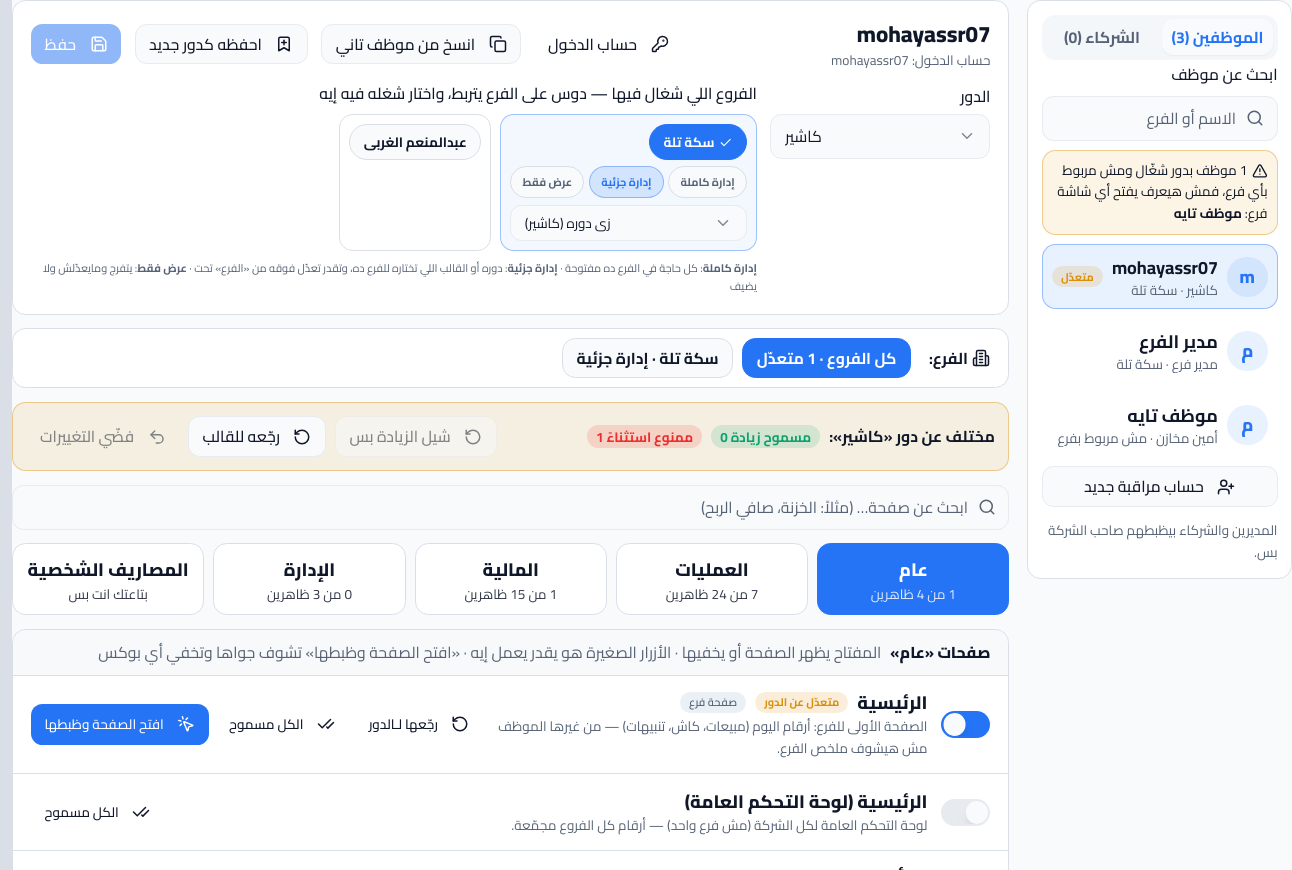
Test: Employees permissions screen › toggling a page then saving sends ALL differences in one call
The width and height of the screenshot is (1292, 870).
Later steps or results of the test are not shown.
Click the switch named "إخفاء الرئيسية" at (966, 724), box [941,711,990,738]
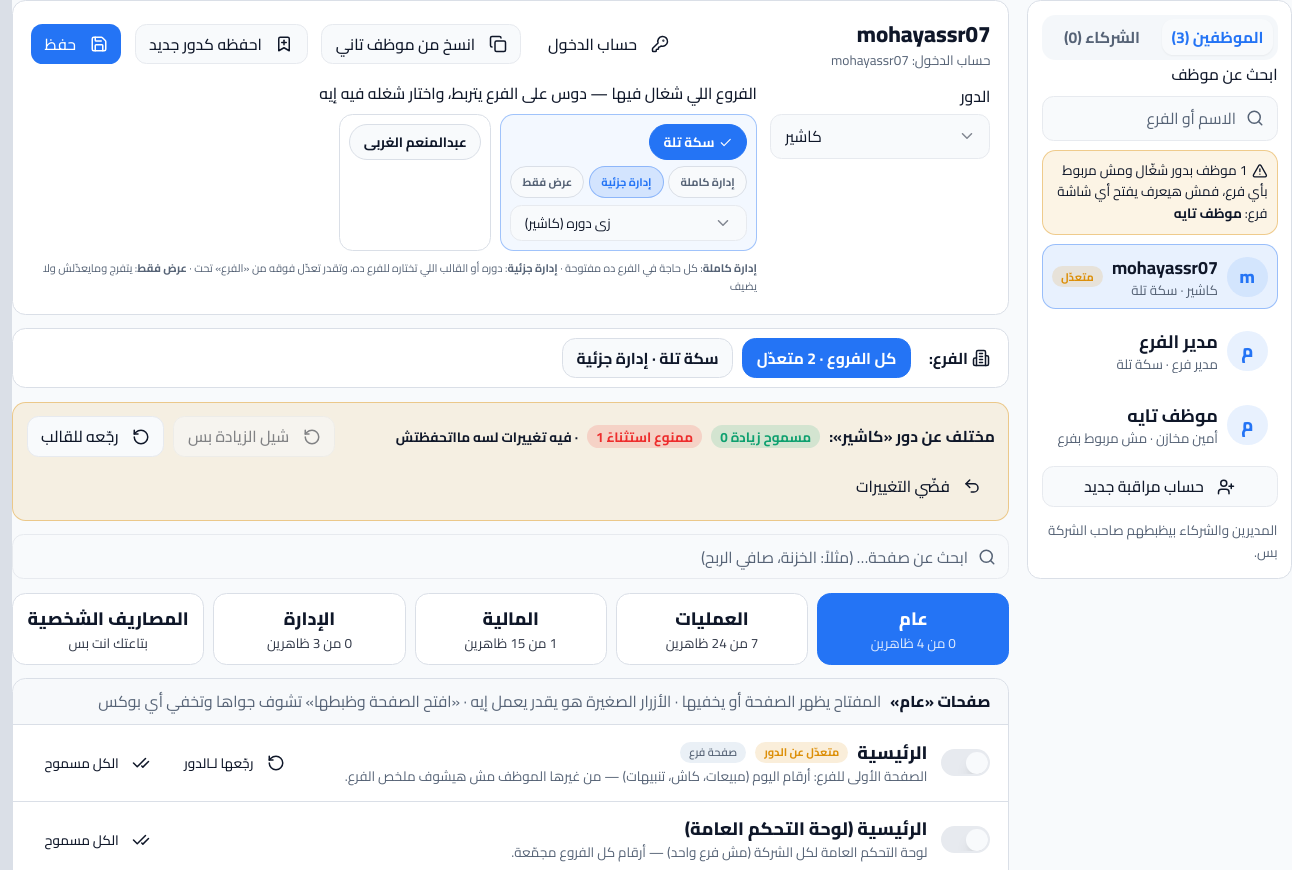
Check: the text "· فيه تغييرات لسه مااتحفظتش" is shown, box [396,428,578,446]
